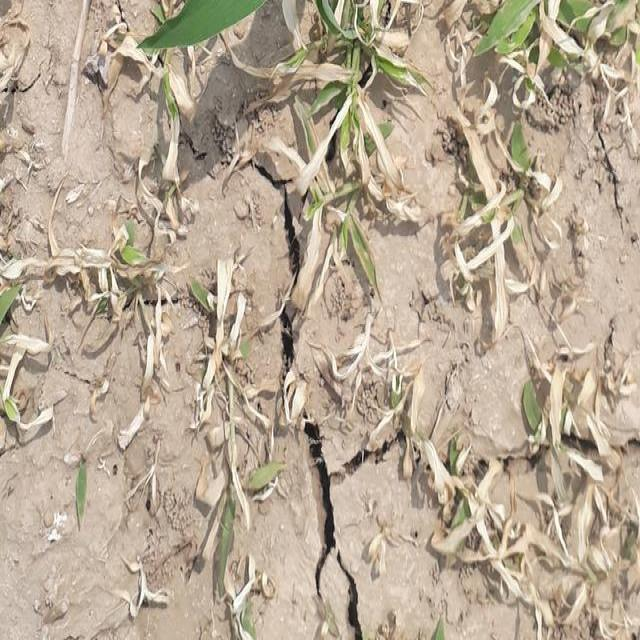weed: (282, 0, 407, 220), (474, 0, 637, 115)
